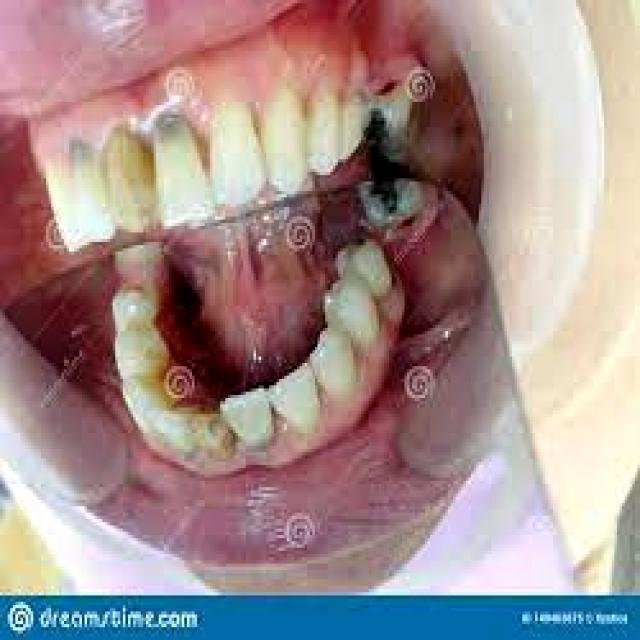tooth-discoloration: (123, 350, 233, 455), (151, 115, 212, 223), (105, 124, 156, 229)
